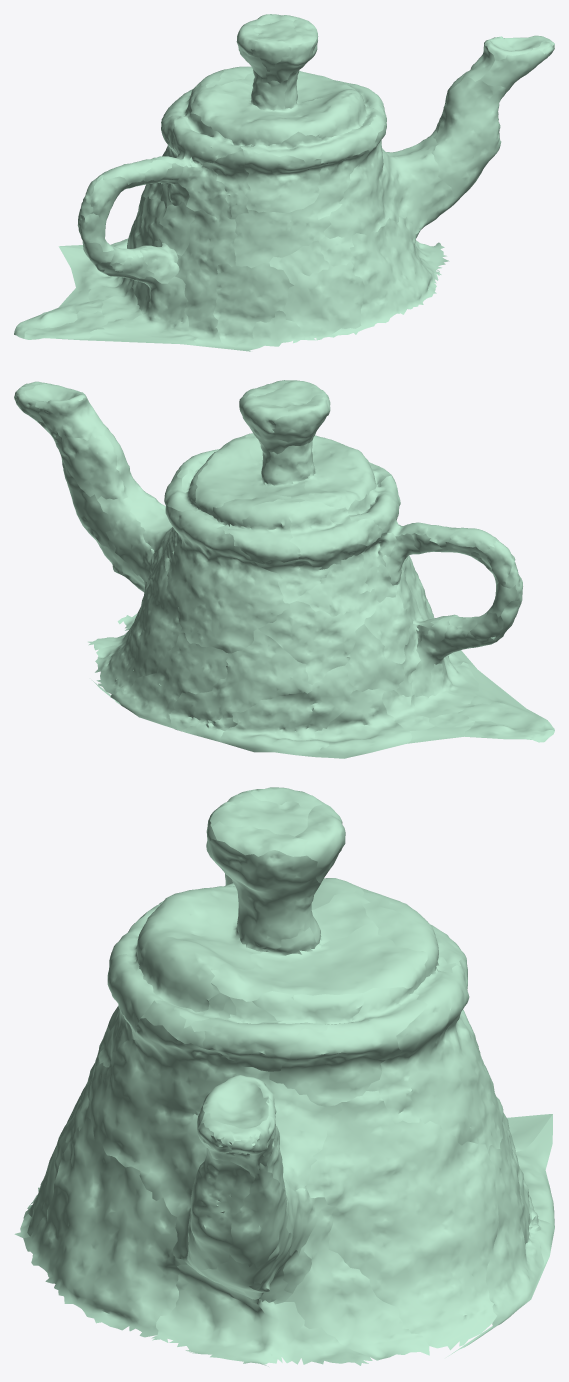
The model's file is take-2-pot.gltf.
The picture shows the model from 3 angles, top to bottom: view 1: azimuth 30°, elevation 25°; view 2: azimuth 150°, elevation 25°; view 3: azimuth 270°, elevation 25°; orthographic projection. The views are drawn at different scales.
Visible parts, largest first — view 1: teapot; view 2: teapot; view 3: teapot.
Part boxes in pixels (bbox=[...]): teapot: bbox=[14, 14, 554, 351]; teapot: bbox=[14, 380, 554, 758]; teapot: bbox=[14, 787, 554, 1366].
Size of the model in its own units: 15.78 by 7.62 by 8.54.
